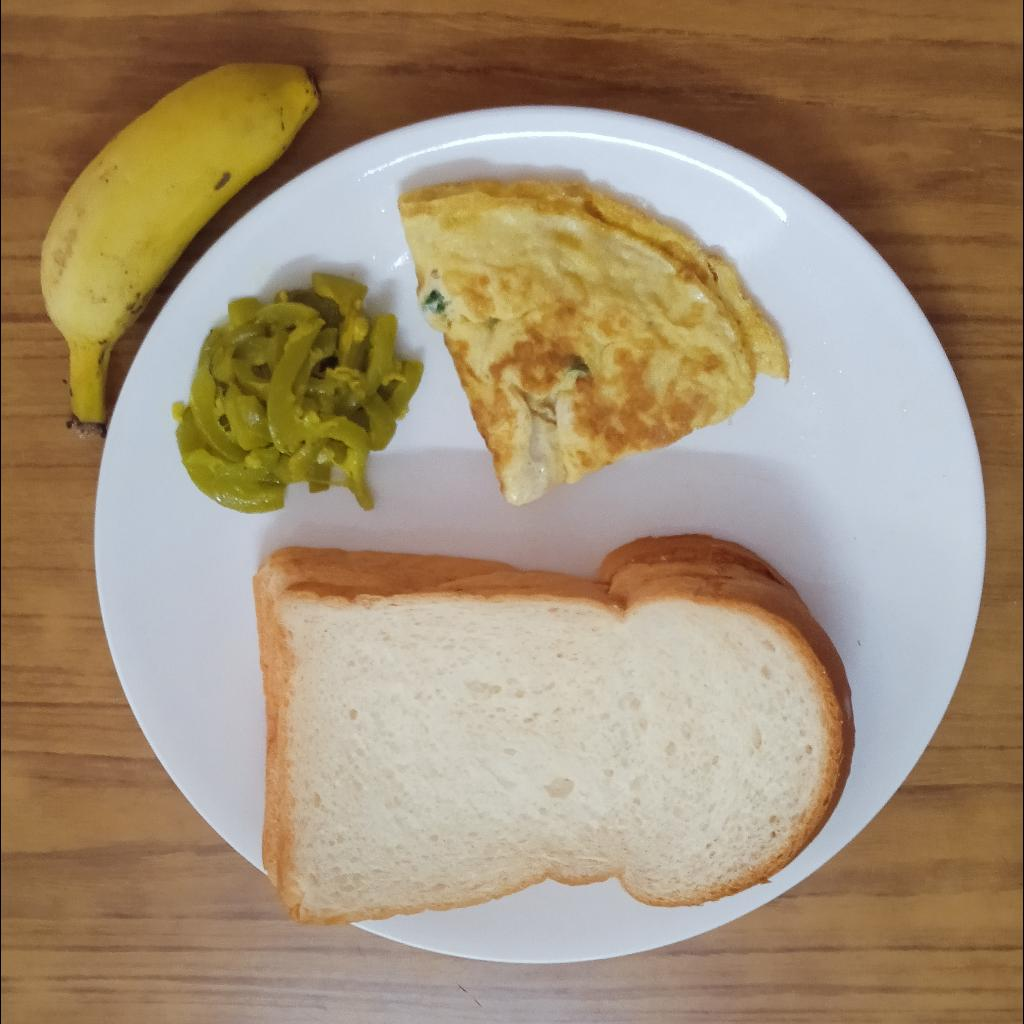banana: (36, 59, 327, 431)
bread: (253, 530, 858, 924)
chichinga-vaji: (174, 271, 426, 512)
egg-poached: (397, 174, 790, 502)
